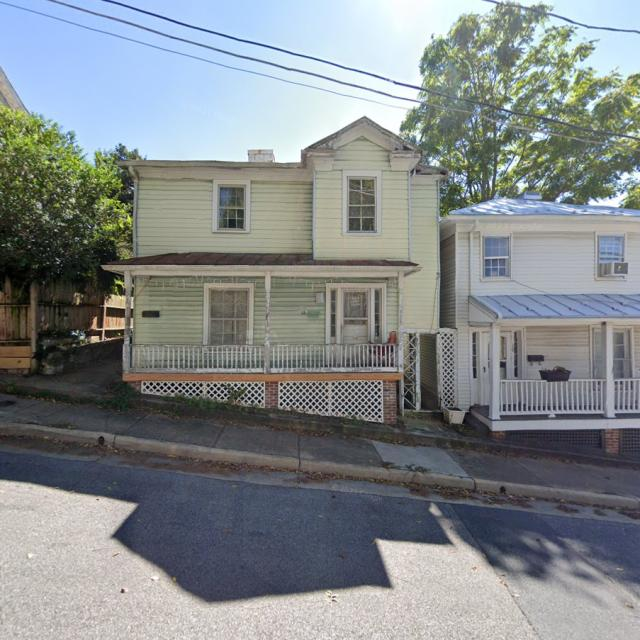House: (100, 117, 450, 426), (441, 189, 640, 464)
